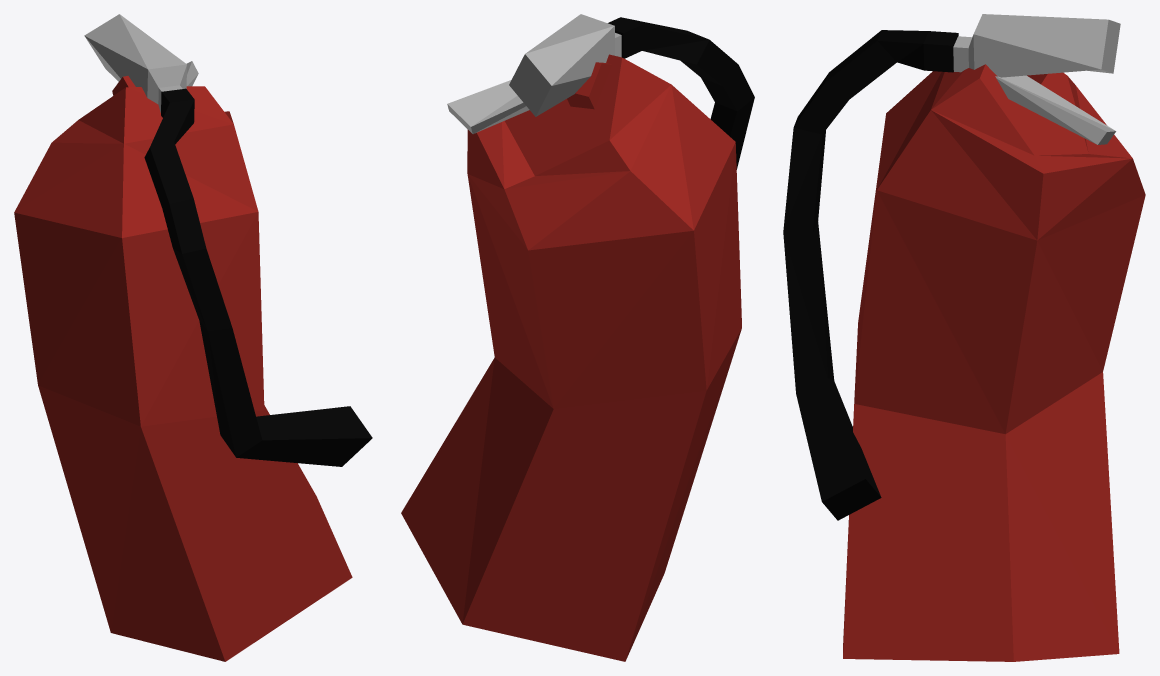
The model's file is FireExtinguisherDestroyed.dae.
The picture shows the model from 3 angles, left to right: view 1: azimuth 30°, elevation 25°; view 2: azimuth 150°, elevation 25°; view 3: azimuth 270°, elevation 25°; orthographic projection. The views are drawn at different scales.
Visible parts, largest first — view 1: Cylinder, Cube; view 2: Cylinder, Cube; view 3: Cylinder, Cube.
Part boxes in pixels (x1=…): Cylinder: x1=14, y1=76, x2=352, y2=661; Cube: x1=84, y1=14, x2=372, y2=466; Cylinder: x1=401, y1=54, x2=741, y2=661; Cube: x1=447, y1=14, x2=754, y2=169; Cylinder: x1=843, y1=64, x2=1145, y2=661; Cube: x1=783, y1=14, x2=1120, y2=520.
Size of the model in its own units: 1.32 by 1.28 by 2.54.
